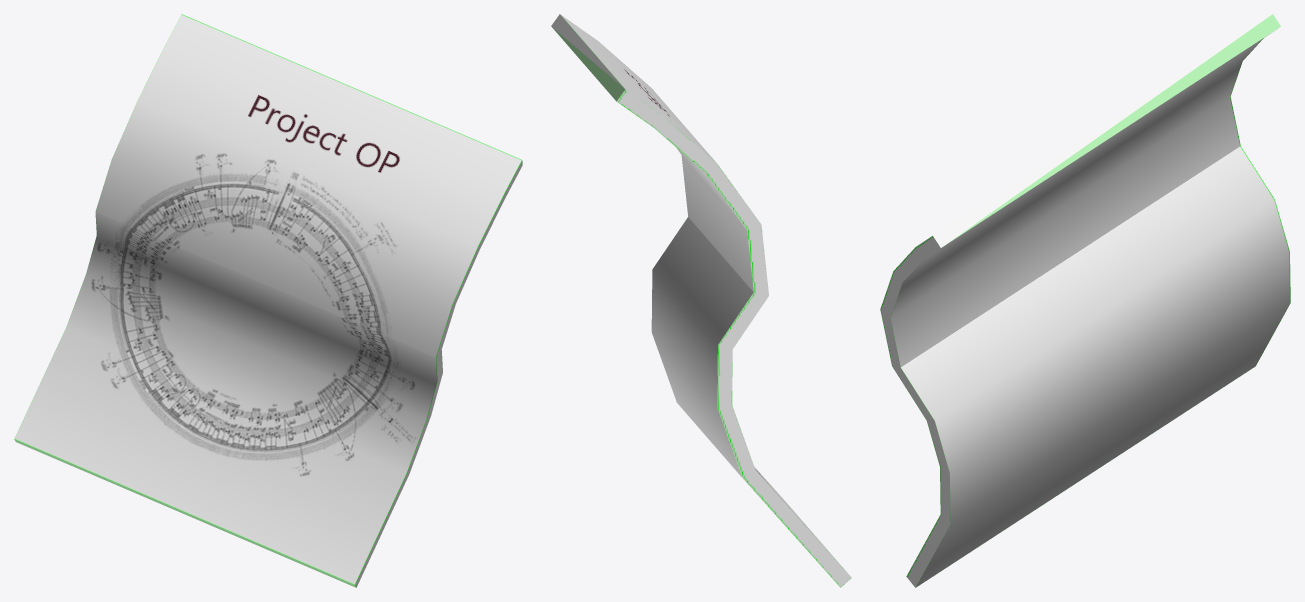
The model's file is sheetmusic.FBX.
3 renders of one model, left to right at view 1: azimuth 30°, elevation 25°; view 2: azimuth 150°, elevation 25°; view 3: azimuth 270°, elevation 25°, orthographic. The views are drawn at different scales.
Visible parts, largest first — view 1: Line001; view 2: Line001; view 3: Line001.
Boxes of the visible parts, <box> form: Line001: <box>14,14,522,587</box>; Line001: <box>551,14,851,587</box>; Line001: <box>880,14,1290,587</box>.
Bounding box in the file's own units: 69.53 × 82.13 × 54.6.
1 material, 1 textured.
